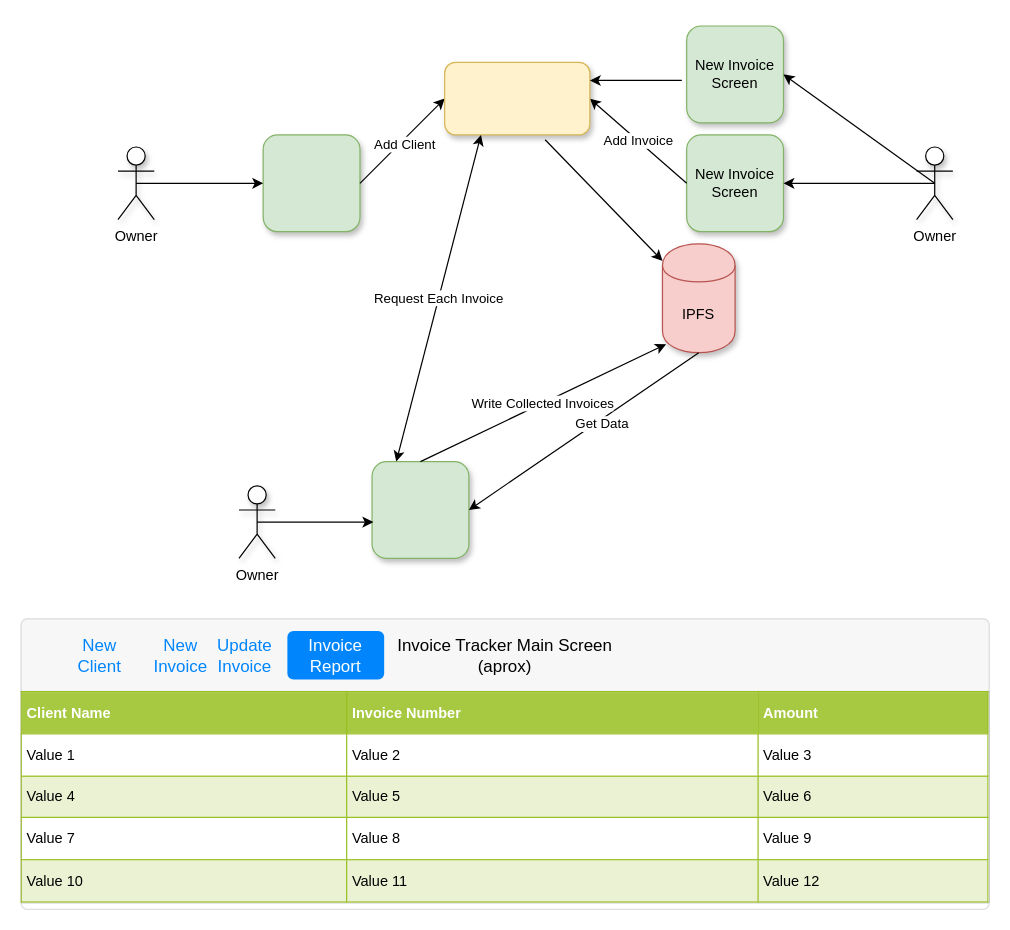
The diagram is 1010 pixels wide and 930 high, and some of its shapes have lost their labels. The shapes that lost their labels are listed below. From the top down, each one's centre as x and y in pixels, then its label:
At point 518,99: "Solidity Contract InvoiceTracker.sol".
At point 312,184: "New Client Screen".
At point 421,511: "Invoice Report Screen".
